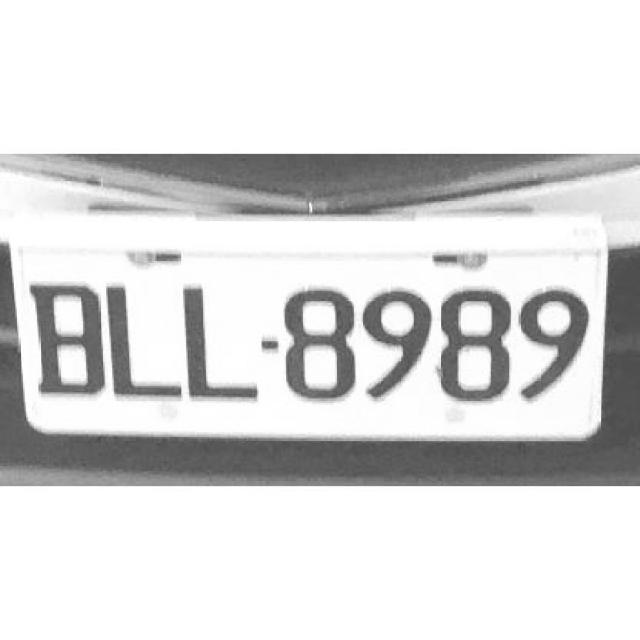-: (260, 331, 280, 351), (257, 337, 278, 355)
8: (278, 280, 356, 403), (435, 280, 511, 406)
9: (511, 286, 589, 402), (358, 286, 434, 400)
B: (28, 277, 106, 395)
L: (106, 283, 182, 400), (182, 286, 252, 397)
